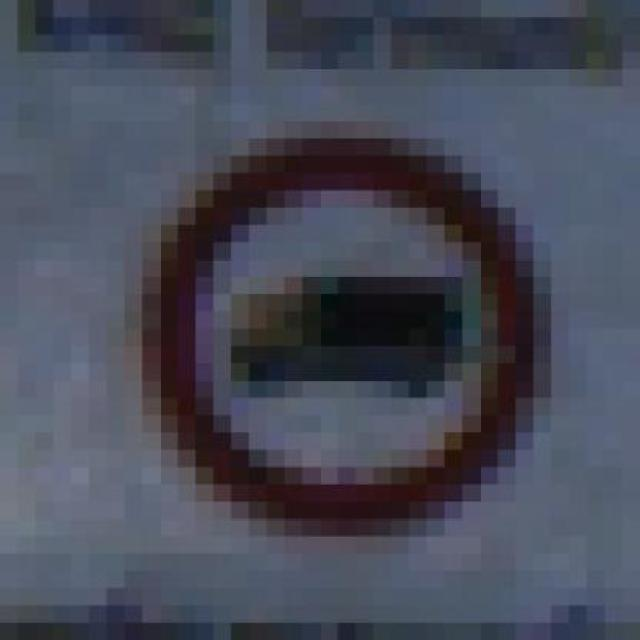Truck traffic is prohibited: (107, 86, 587, 537)
